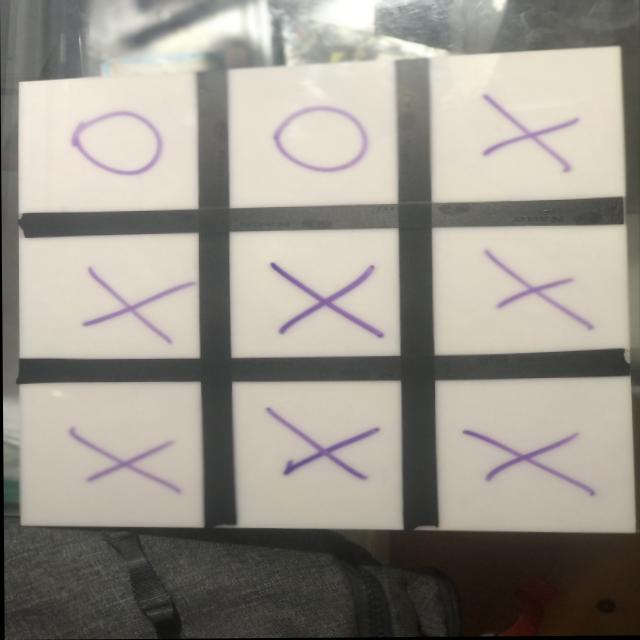o: (62, 106, 166, 181), (269, 102, 371, 177)
table: (4, 46, 636, 555)
x: (266, 257, 382, 342), (66, 425, 183, 503), (460, 429, 597, 495), (264, 407, 383, 482), (81, 269, 191, 349), (482, 251, 589, 331), (482, 92, 581, 174)
